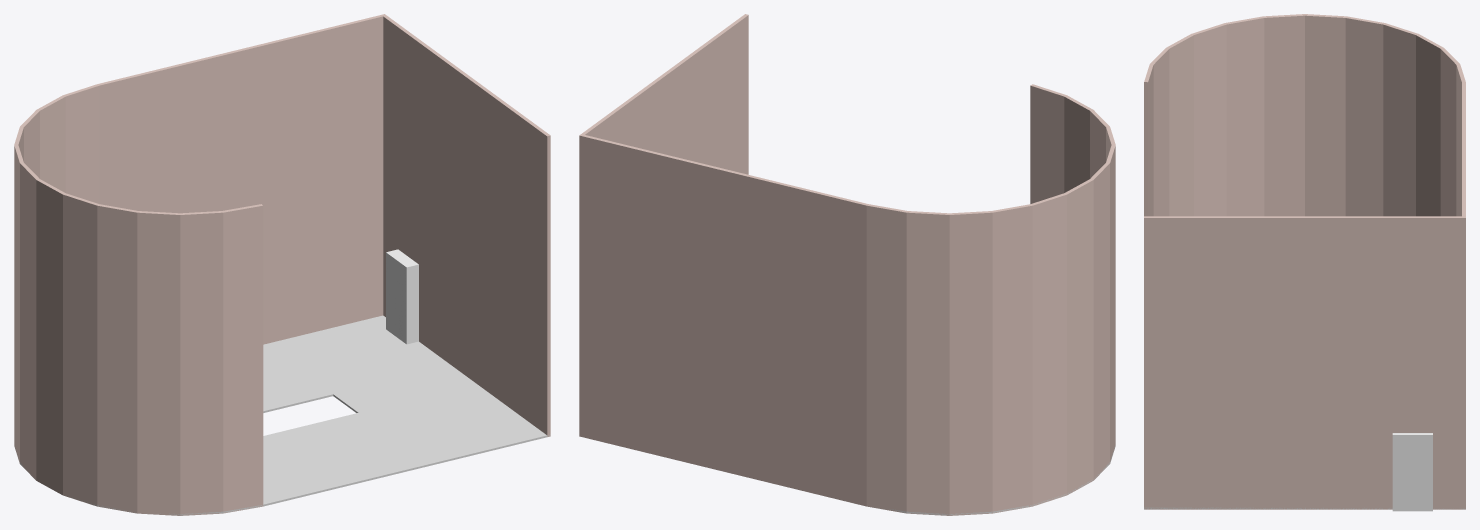
The model's file is roomdata.fbx.
3 renders of one model, left to right at view 1: azimuth 30°, elevation 25°; view 2: azimuth 150°, elevation 25°; view 3: azimuth 270°, elevation 25°, orthographic. The views are drawn at different scales.
Visible parts, largest first — view 1: Room, Baseboard, CTRL_Hole; view 2: Room; view 3: Room, CTRL_Hole, Baseboard.
Part boxes in pixels (box(x1,y1,x2,y2)): Room: box(14, 14, 550, 515); Baseboard: box(15, 315, 550, 515); CTRL_Hole: box(386, 249, 418, 344); Room: box(579, 14, 1115, 515); Room: box(1144, 14, 1465, 509); CTRL_Hole: box(1392, 433, 1432, 511); Baseboard: box(1144, 507, 1465, 509).
Bounding box in the file's own units: 1217 × 810 × 800.
